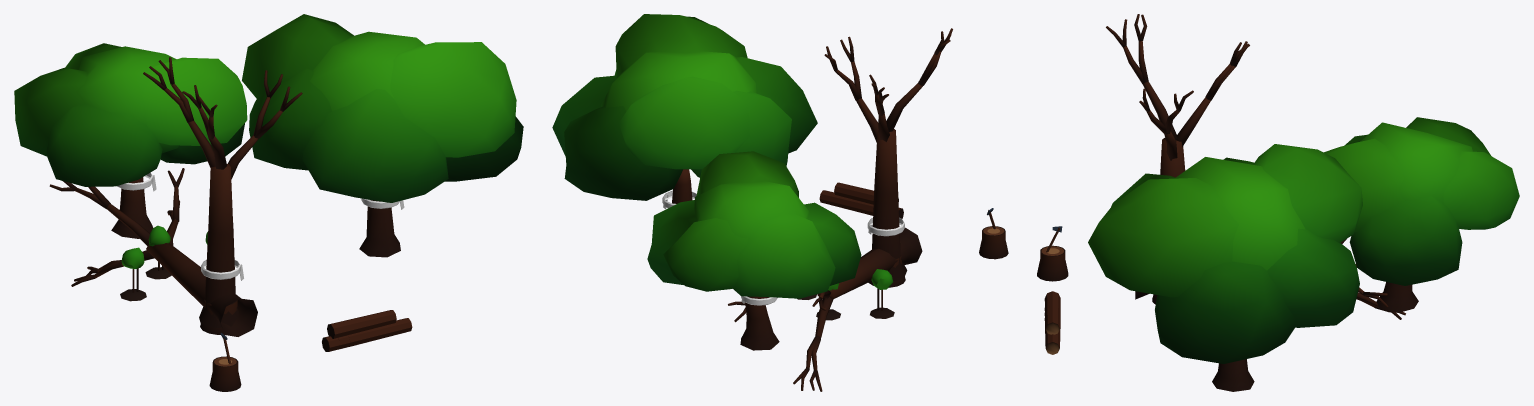
The model's file is Ormanci_Korusu.fbx.
3 renders of one model, left to right at view 1: azimuth 30°, elevation 25°; view 2: azimuth 150°, elevation 25°; view 3: azimuth 270°, elevation 25°, orthographic. The views are drawn at different scales.
Visible parts, largest first — view 1: Koru_Agac_Yuvali, Koru_Agac_Genc, Koru_Agac_Kuru_Ayakta, Koru_Agac_Kuru_Devrik, Koru_Odun_Destesi, Koru_Fidanlar, SM_Koru_Baltalik; view 2: Koru_Agac_Yuvali, Koru_Agac_Genc, Koru_Agac_Kuru_Ayakta, Koru_Agac_Kuru_Devrik, Koru_Odun_Destesi, Koru_Fidanlar, SM_Koru_Baltalik; view 3: Koru_Agac_Yuvali, Koru_Agac_Genc, Koru_Agac_Kuru_Ayakta, SM_Koru_Baltalik, Koru_Odun_Destesi, Koru_Agac_Kuru_Devrik.
Boxes of the visible parts, <box> form: Koru_Agac_Yuvali: <box>242,14,523,257</box>; Koru_Agac_Genc: <box>14,43,247,238</box>; Koru_Agac_Kuru_Ayakta: <box>143,57,302,327</box>; Koru_Agac_Kuru_Devrik: <box>49,168,257,336</box>; Koru_Odun_Destesi: <box>322,310,412,351</box>; Koru_Fidanlar: <box>120,225,208,301</box>; SM_Koru_Baltalik: <box>209,333,241,391</box>; Koru_Agac_Yuvali: <box>552,14,817,203</box>; Koru_Agac_Genc: <box>647,151,861,350</box>; Koru_Agac_Kuru_Ayakta: <box>824,28,952,281</box>; Koru_Agac_Kuru_Devrik: <box>728,227,922,391</box>; Koru_Odun_Destesi: <box>819,182,903,218</box>; Koru_Fidanlar: <box>797,269,894,320</box>; SM_Koru_Baltalik: <box>979,208,1008,259</box>; Koru_Agac_Yuvali: <box>1088,144,1362,391</box>; Koru_Agac_Genc: <box>1324,117,1519,312</box>; Koru_Agac_Kuru_Ayakta: <box>1106,14,1249,298</box>; SM_Koru_Baltalik: <box>1037,226,1068,281</box>; Koru_Odun_Destesi: <box>1044,291,1060,354</box>; Koru_Agac_Kuru_Devrik: <box>1135,239,1405,319</box>.
Size of the model in its own units: 11.25 by 8.15 by 12.04.
